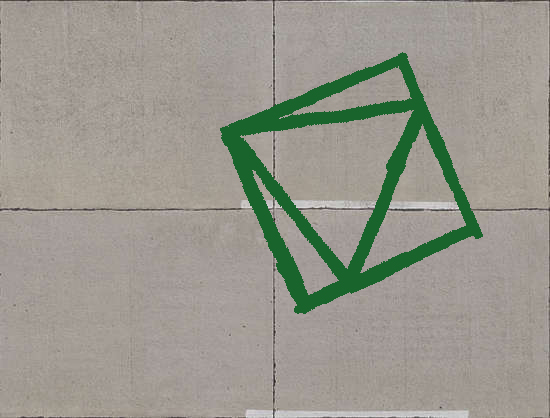marker: (217, 51, 487, 319)
